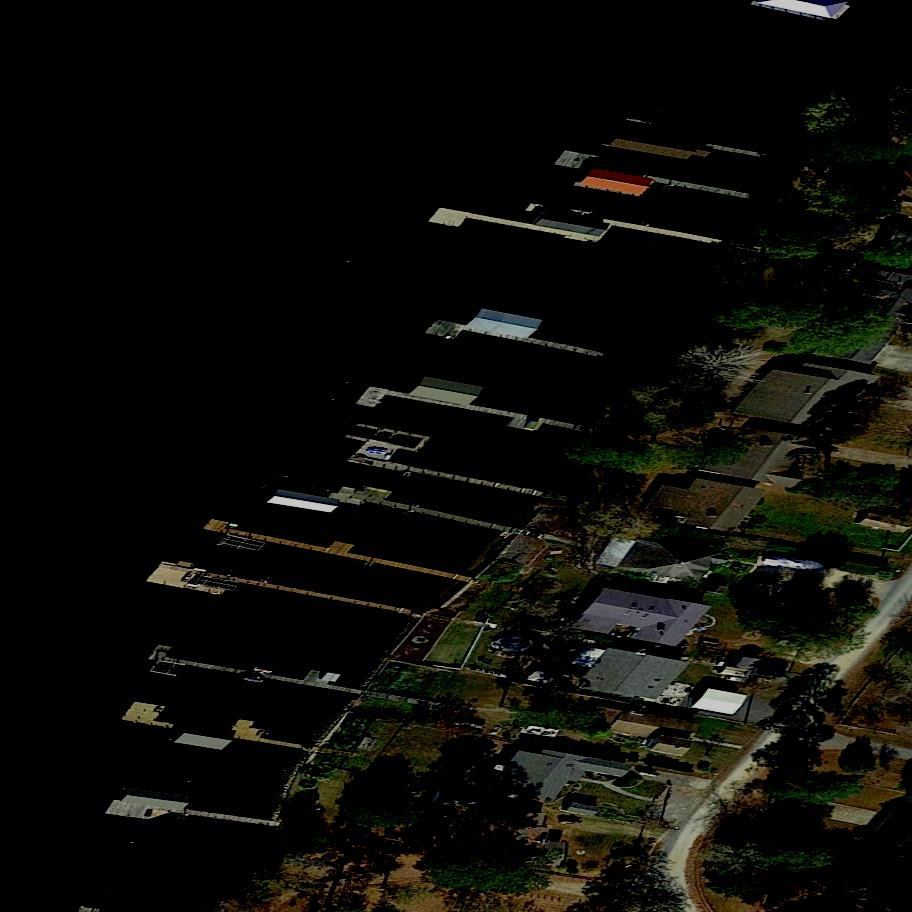ship: (757, 556, 826, 575)
